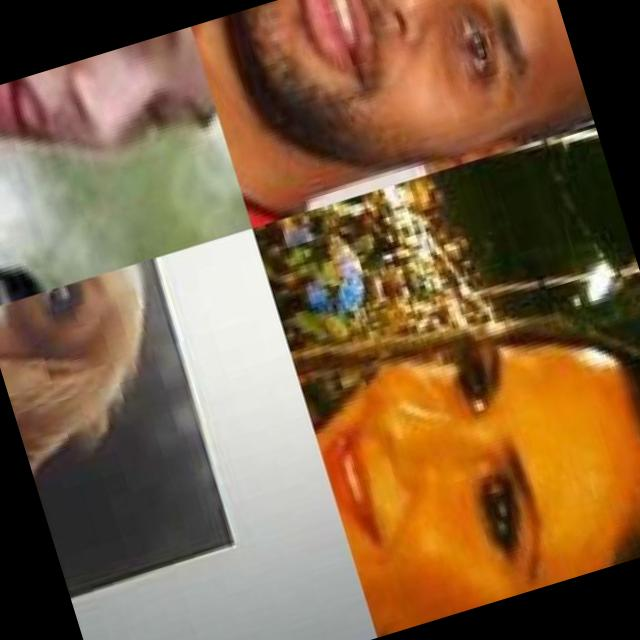bareface: (317, 265, 640, 630)
